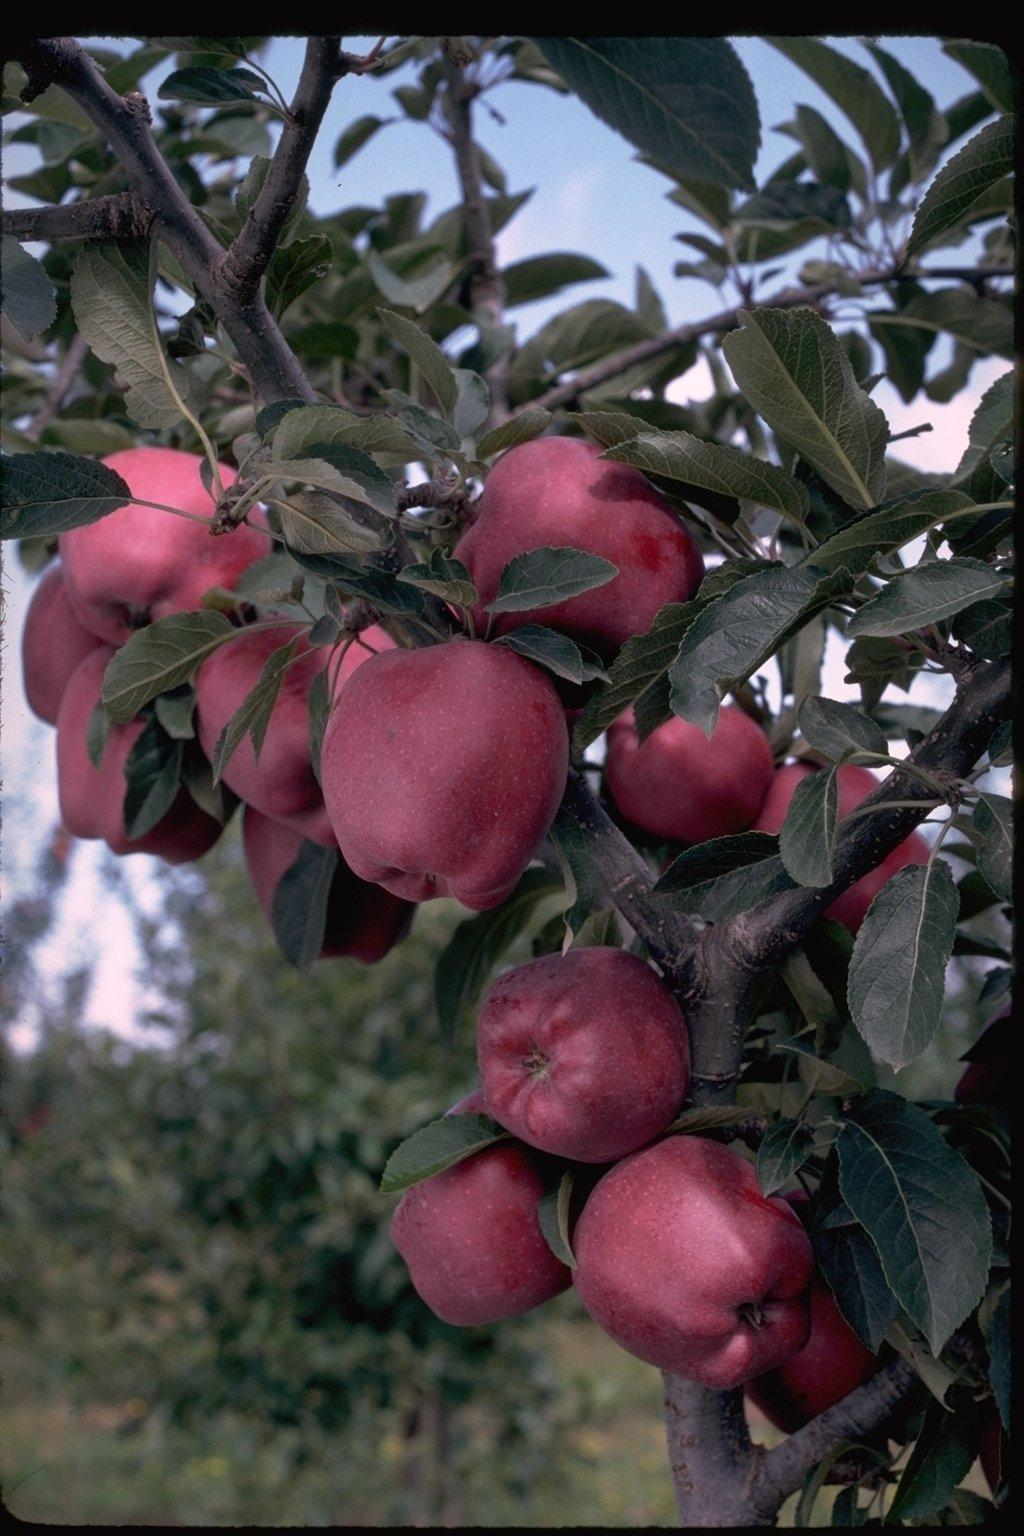apple: (326, 635, 571, 907), (568, 1130, 814, 1387), (479, 941, 689, 1174), (457, 442, 699, 645), (66, 437, 273, 651), (54, 639, 227, 875), (390, 1136, 569, 1328), (599, 699, 775, 850)
